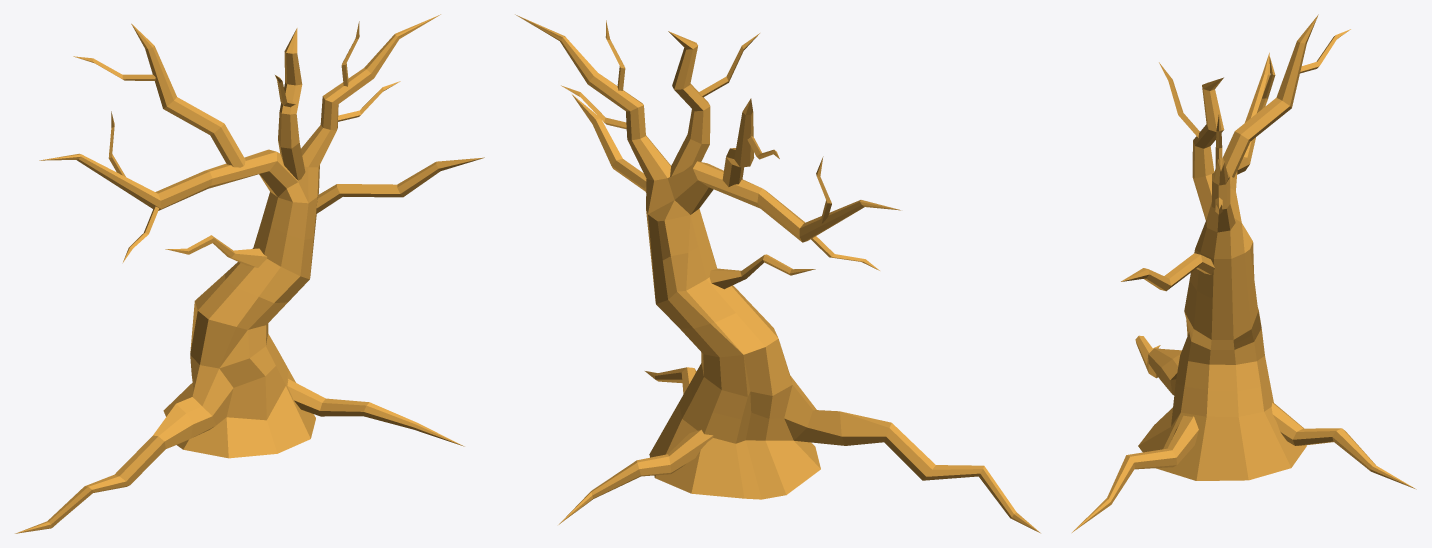
Rendered from tree-scary-dead.fbx.
The picture shows the model from 3 angles, left to right: view 1: azimuth 30°, elevation 25°; view 2: azimuth 150°, elevation 25°; view 3: azimuth 270°, elevation 25°; orthographic projection. The views are drawn at different scales.
Visible parts, largest first — view 1: tree-scary-dead; view 2: tree-scary-dead; view 3: tree-scary-dead.
Boxes of the visible parts, x1,y1,x2,y2 form: tree-scary-dead: (15, 14, 484, 533); tree-scary-dead: (515, 14, 1040, 533); tree-scary-dead: (1072, 14, 1416, 532).
Size of the model in its own units: 6.11 by 5.24 by 3.84.
